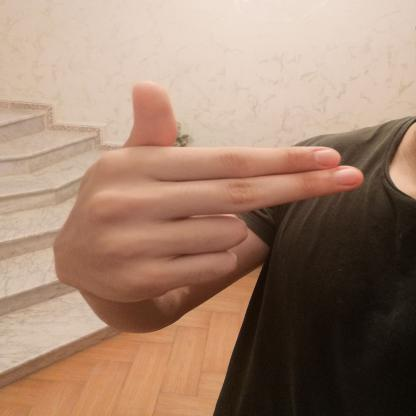GHAYN: (38, 67, 380, 323)
